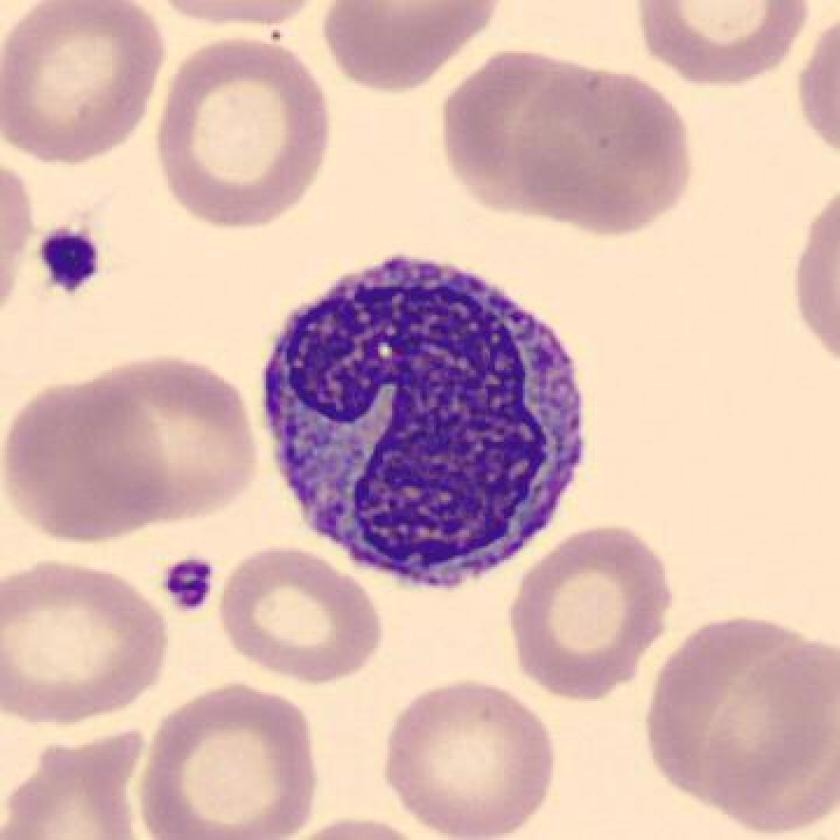monocyte: (241, 237, 610, 603)
